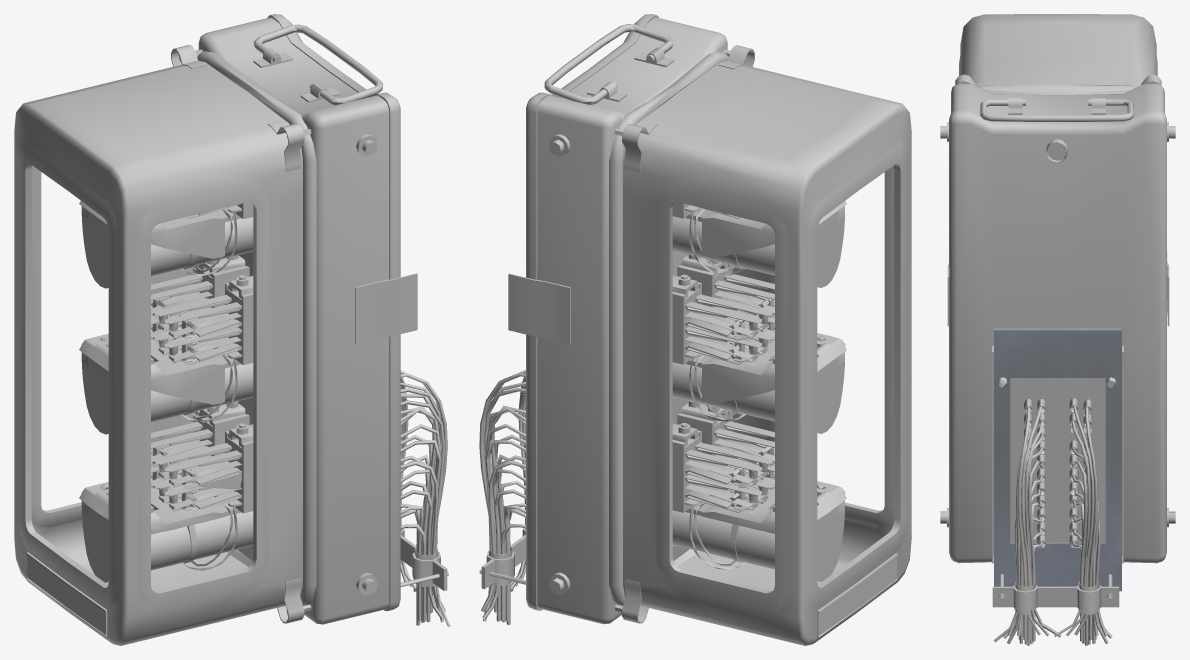
3 views of the same model, side by side, from view 1: azimuth 30°, elevation 25°; view 2: azimuth 150°, elevation 25°; view 3: azimuth 270°, elevation 25° (orthographic). The views are drawn at different scales.
Visible parts, largest first — view 1: SM_SP_2; view 2: SM_SP_2; view 3: SM_SP_2.
Part boxes in pixels (x1,y1,x2,y2): SM_SP_2: (14, 14, 450, 645); SM_SP_2: (479, 14, 911, 645); SM_SP_2: (940, 14, 1175, 645).
Size of the model in its own units: 20.84 by 31.88 by 13.47.
